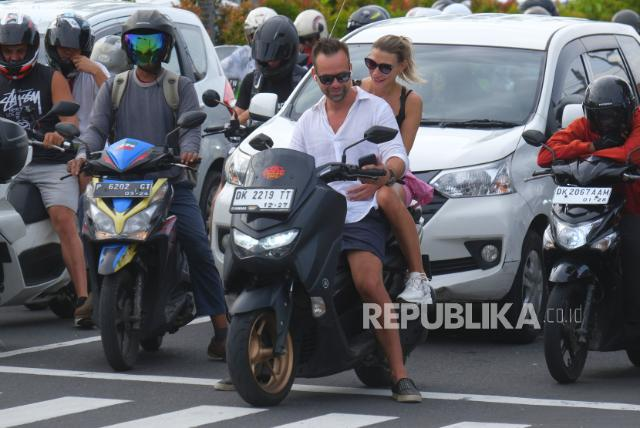helm: (121, 9, 178, 75), (582, 75, 640, 138), (46, 12, 97, 77), (2, 9, 43, 84), (254, 17, 301, 79), (89, 36, 136, 84), (245, 7, 279, 49), (346, 6, 392, 37), (295, 9, 330, 47)
motor: (223, 149, 431, 410), (57, 110, 206, 373), (529, 145, 640, 391), (1, 102, 93, 333)
non-helm: (310, 40, 356, 104), (365, 34, 413, 88)
